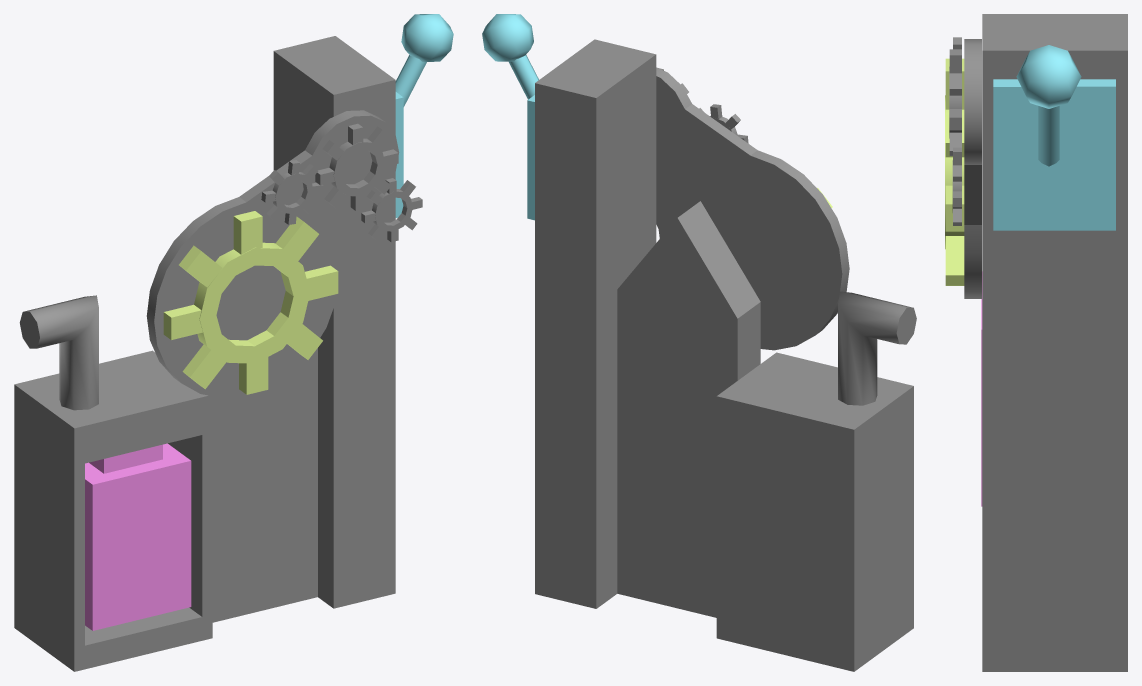
Rendered from RemakeNew3DecoBody.fbx.
The picture shows the model from 3 angles, left to right: view 1: azimuth 30°, elevation 25°; view 2: azimuth 150°, elevation 25°; view 3: azimuth 270°, elevation 25°; orthographic projection. The views are drawn at different scales.
Visible parts, largest first — view 1: Box004, Box017, Box018, Cylinder001, Box002, Box001, Line003, Object001, Box008, Object004, Object003; view 2: Box004, Box017, Box018, Cylinder001, Line003, Box008, Object003; view 3: Box017, Box008, Cylinder001, Box001, Object001, Box002.
Part boxes in pixels (x1,y1,x2,y2): Box004: (14, 350, 212, 671); Box017: (273, 36, 395, 608); Box018: (212, 348, 317, 607); Cylinder001: (146, 110, 399, 397); Box002: (85, 443, 191, 630); Box001: (163, 211, 338, 394); Line003: (19, 295, 98, 410); Object001: (315, 123, 422, 242); Box008: (395, 14, 453, 217); Object004: (261, 160, 323, 224); Object003: (212, 582, 317, 622); Box004: (716, 352, 913, 671); Box017: (535, 39, 656, 608); Box018: (617, 201, 760, 603); Cylinder001: (656, 67, 849, 350); Line003: (838, 291, 916, 405); Box008: (482, 14, 538, 220); Object003: (617, 579, 716, 617); Box017: (982, 14, 1127, 671); Box008: (993, 45, 1115, 230); Cylinder001: (964, 39, 981, 298); Box001: (945, 58, 964, 285); Object001: (949, 49, 961, 225); Box002: (981, 271, 982, 506).
Size of the model in its own units: 12.63 by 15.58 by 3.92.
